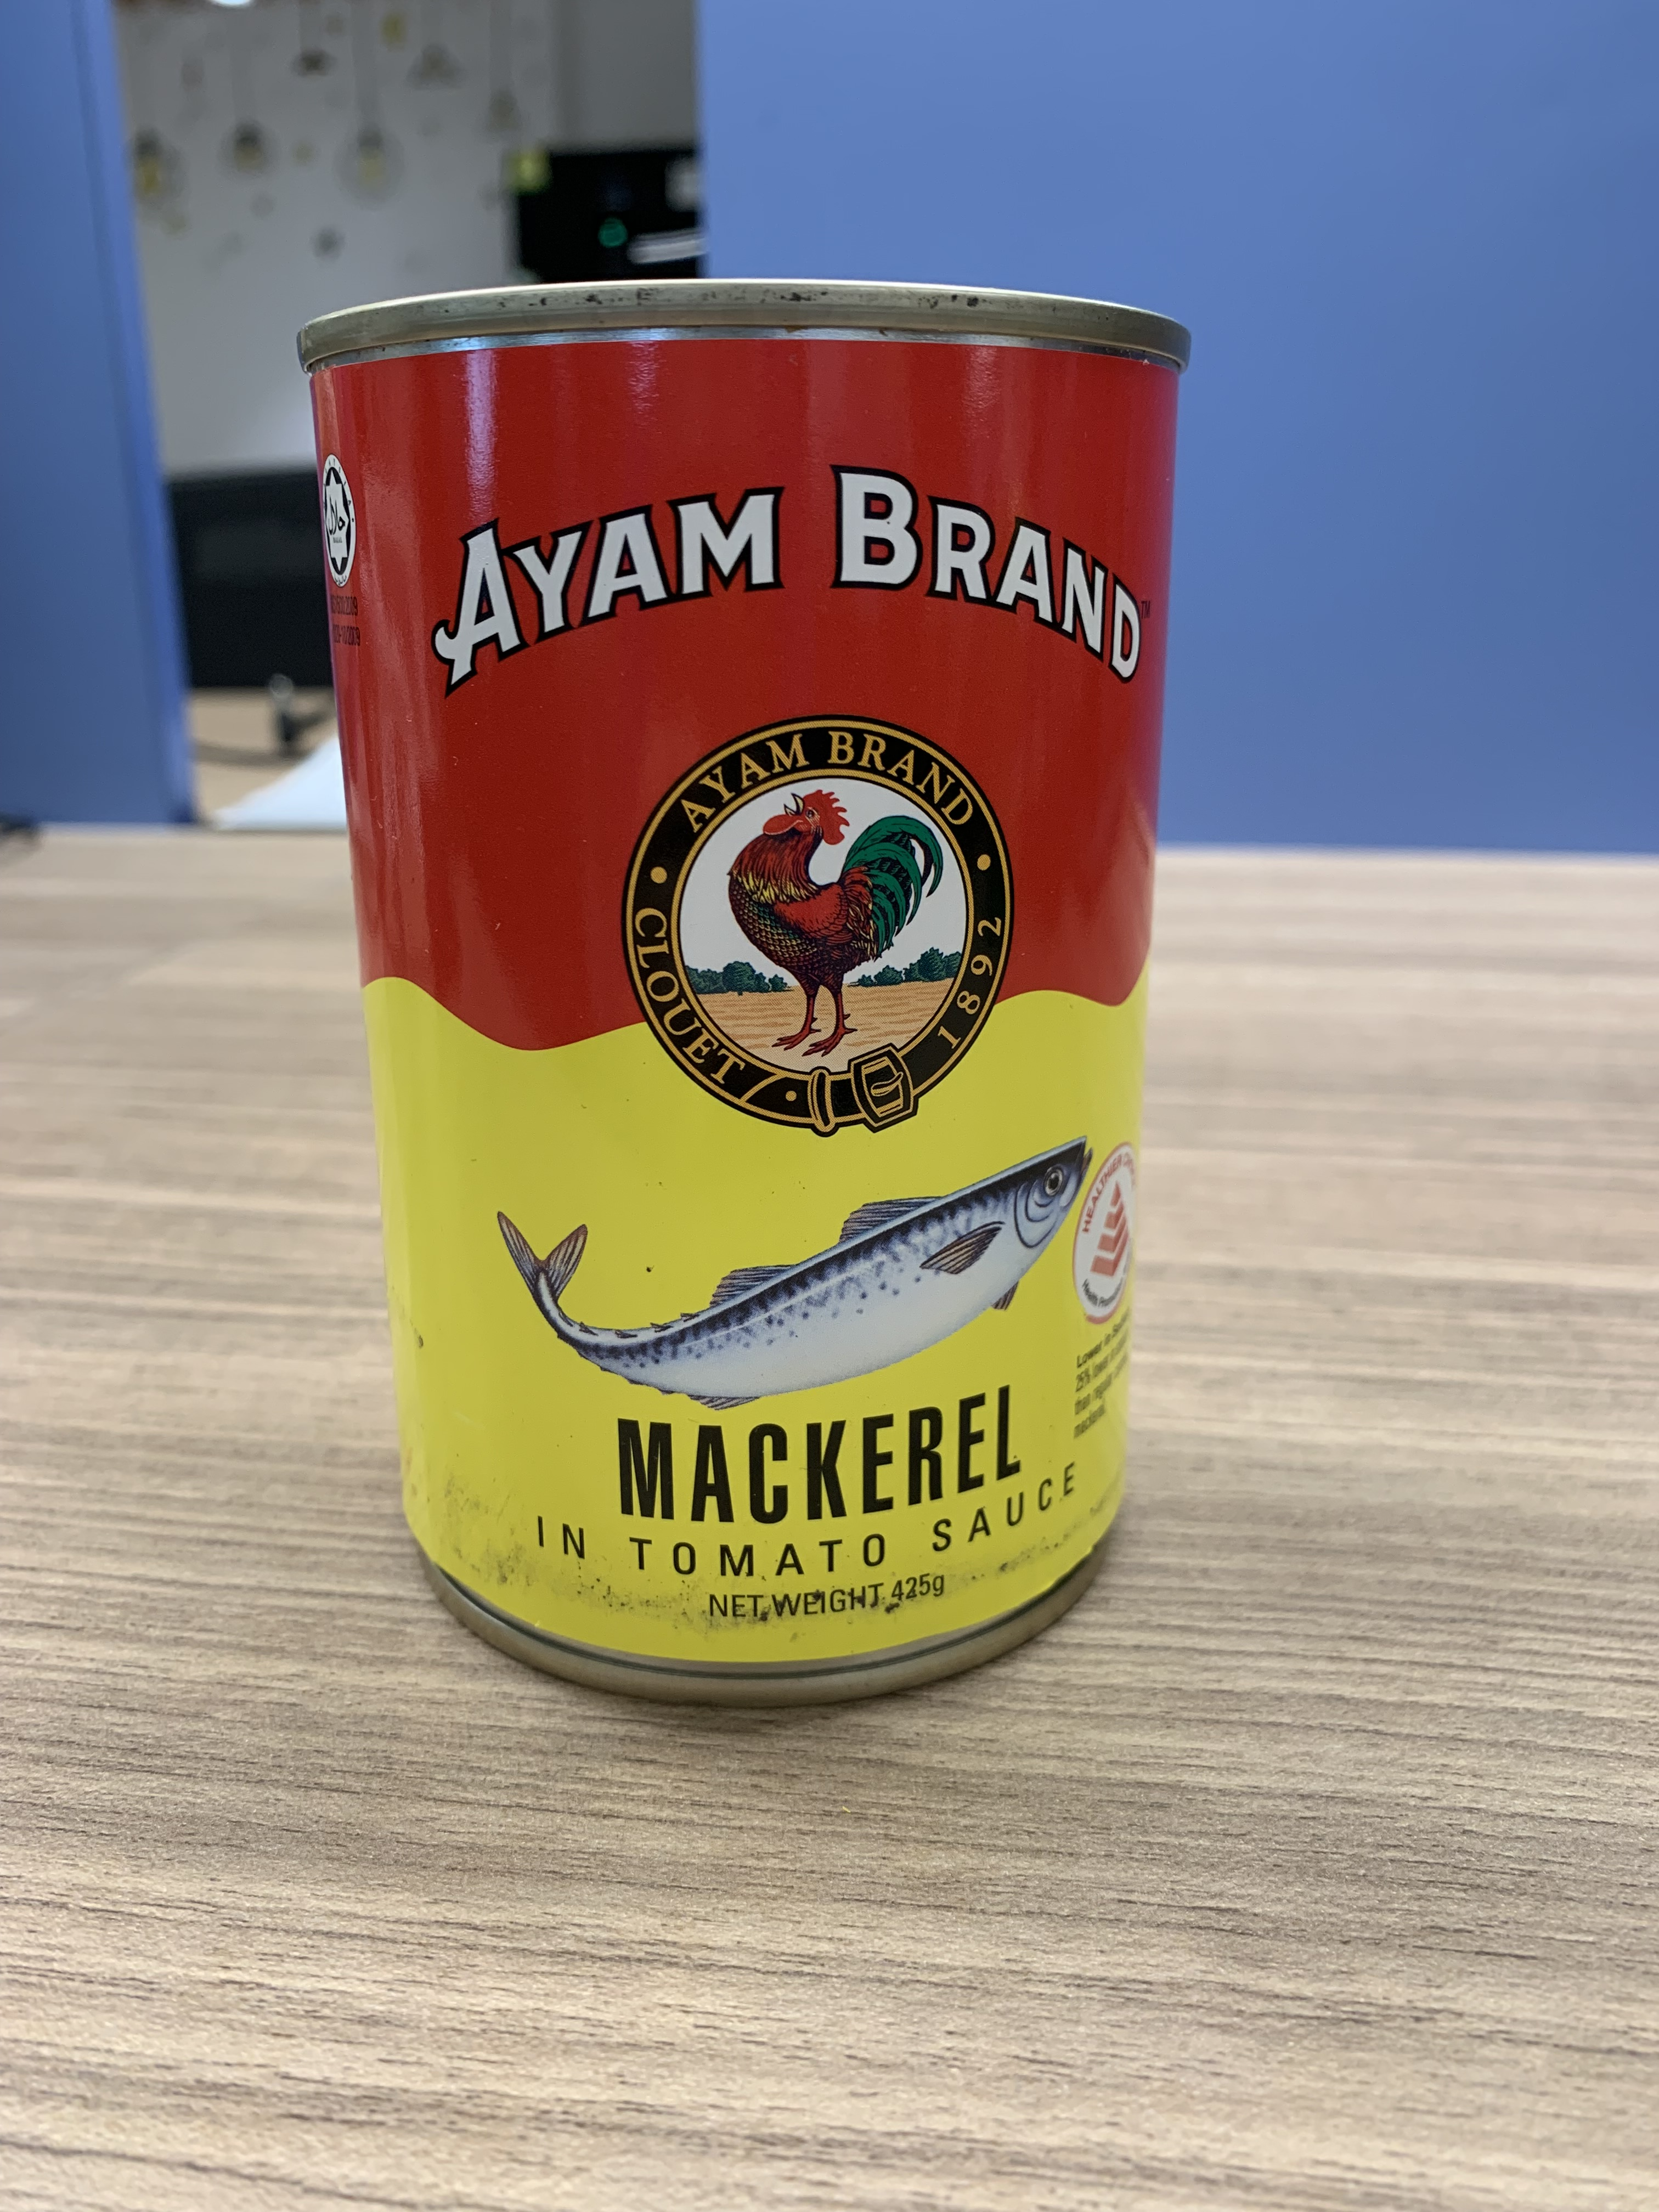sardines_400g-499g: (406, 380, 1108, 1630)
